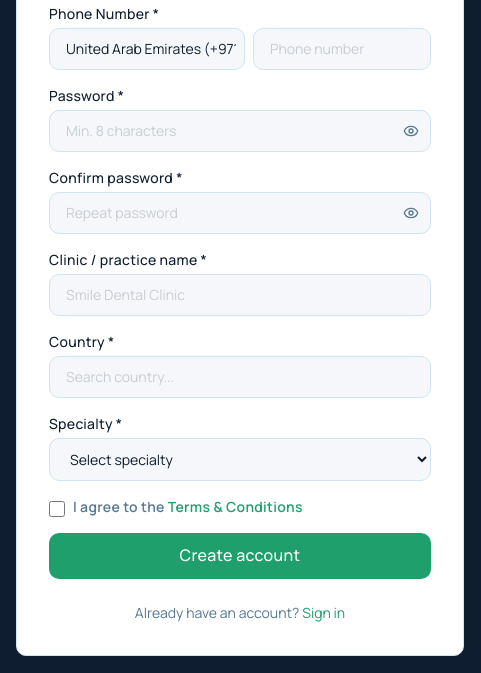
Test: Register page › opens country dropdown on focus and shows country options
The width and height of the screenshot is (481, 673).
(page scrolled)
Focus the field with placeholder "Search country..." at (240, 377), box [49,356,431,398]
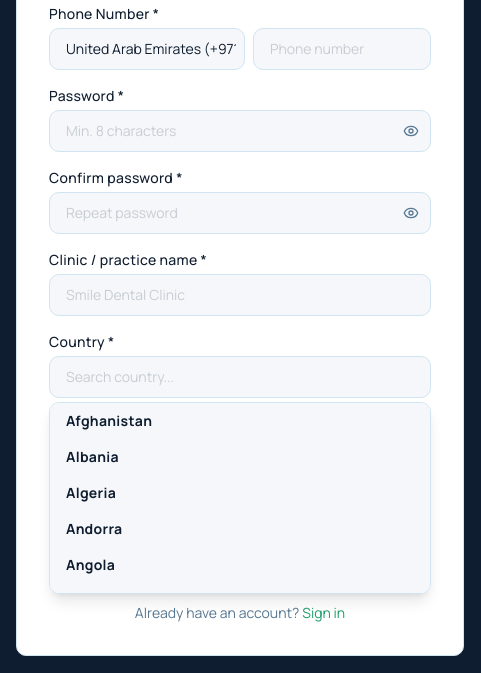
Now the button "Afghanistan" is shown, box [50,403,430,439]
